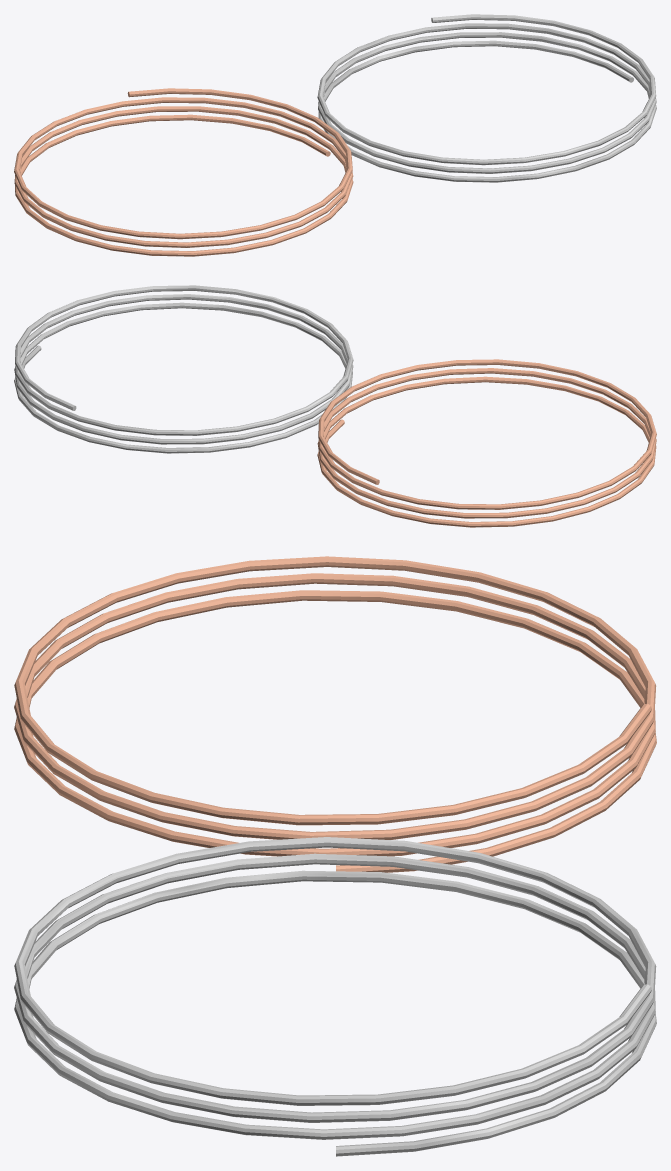
Rendered from copper & alu.fbx.
The picture shows the model from 3 angles, top to bottom: view 1: azimuth 30°, elevation 25°; view 2: azimuth 150°, elevation 25°; view 3: azimuth 270°, elevation 25°; orthographic projection. The views are drawn at different scales.
Visible parts, largest first — view 1: copper2, aluminum; view 2: copper2, aluminum; view 3: aluminum, copper2.
Part boxes in pixels (x1,y1,x2,y2): copper2: (14, 88, 353, 256); aluminum: (317, 14, 656, 182); copper2: (317, 359, 656, 527); aluminum: (14, 285, 353, 453); aluminum: (14, 837, 656, 1156); copper2: (14, 556, 656, 872).
Bounding box in the file's own units: 36.48 × 1.95 × 17.94.
2 materials, 2 textured.
